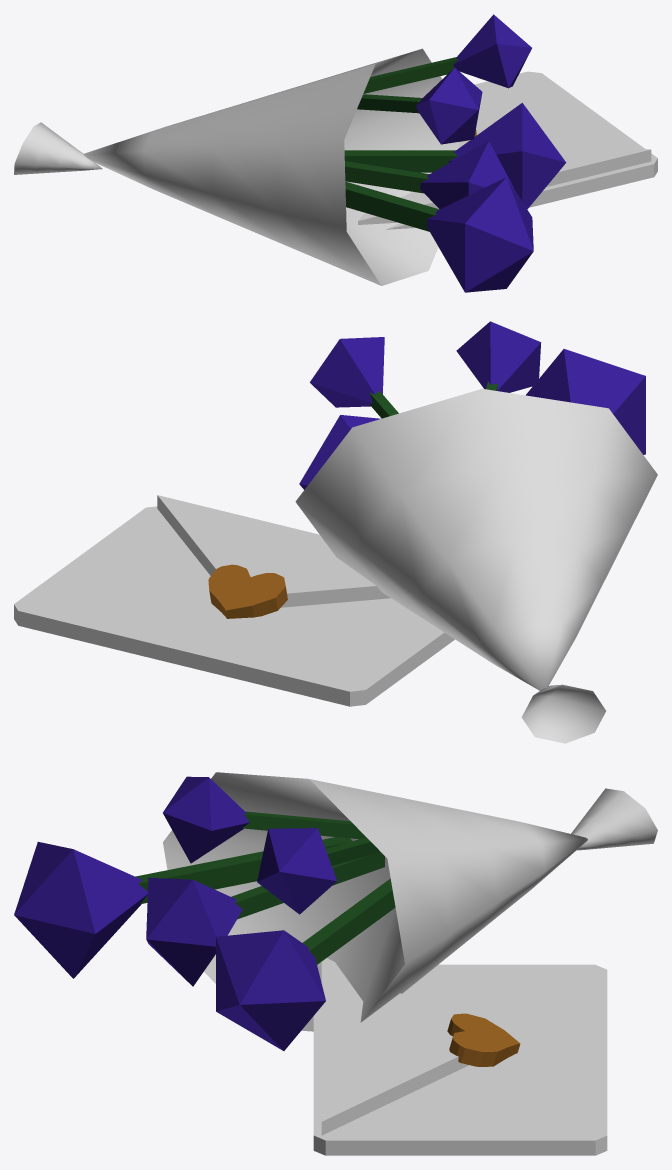
File: SM_BaekjunyeonLetter.FBX
3 renders of one model, top to bottom at view 1: azimuth 30°, elevation 25°; view 2: azimuth 150°, elevation 25°; view 3: azimuth 270°, elevation 25°, orthographic. The views are drawn at different scales.
Parts seen in each view (by area): view 1: Box009; view 2: Box009; view 3: Box009.
Part boxes in pixels (left/top/right/bottom): Box009: left=14, top=14, right=657, bottom=292; Box009: left=14, top=321, right=657, bottom=743; Box009: left=14, top=772, right=657, bottom=1155.
Bounding box in the file's own units: 41.18 × 16.35 × 37.7.
